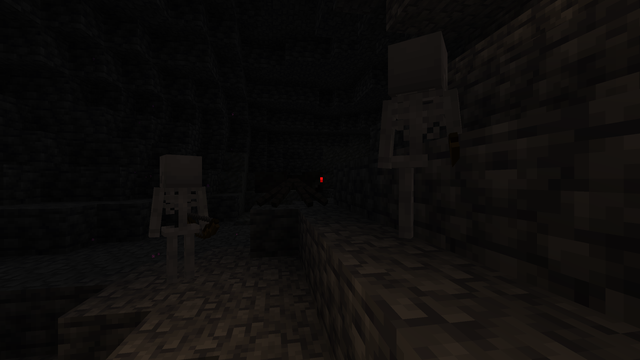araignees: (265, 167, 327, 207)
squelettes: (380, 31, 463, 246), (151, 155, 204, 288)
